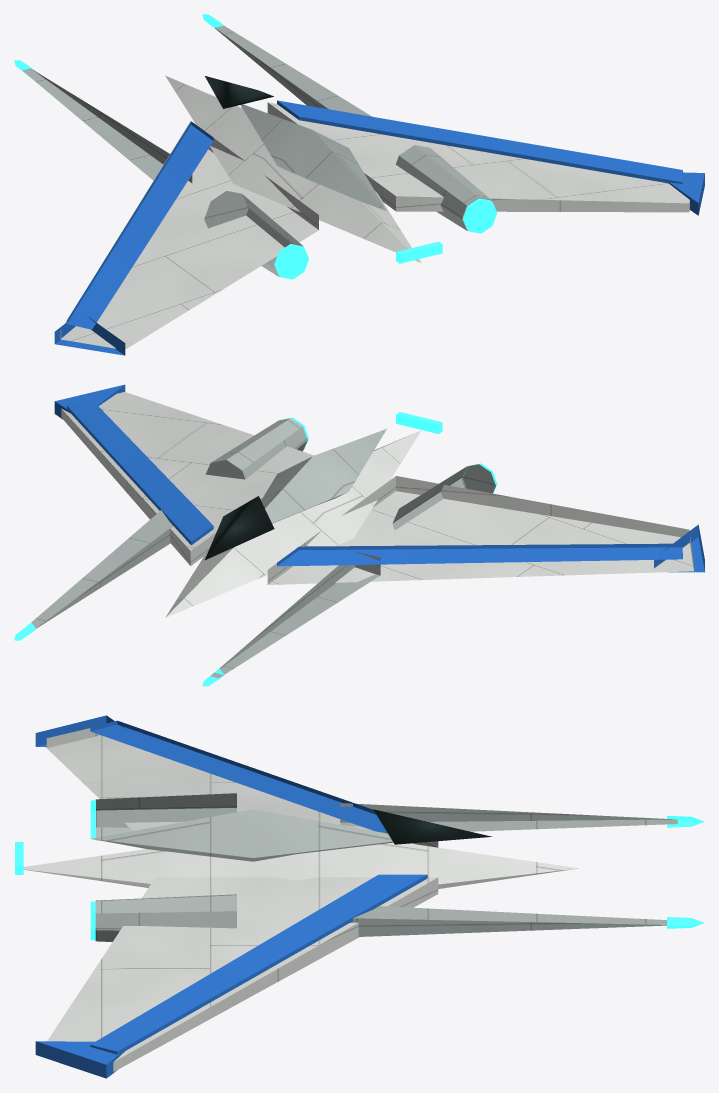
Rendered from energia_lamina.glb.
3 views of the same model, one above another, from view 1: azimuth 30°, elevation 25°; view 2: azimuth 150°, elevation 25°; view 3: azimuth 270°, elevation 25° (orthographic). The views are drawn at different scales.
Visible parts, largest first — view 1: Body_Shell, Body_ShellAlt, Body_TeamColor, Body_Glow, Body_Core; view 2: Body_Shell, Body_ShellAlt, Body_TeamColor, Body_Core, Body_Glow; view 3: Body_Shell, Body_ShellAlt, Body_TeamColor, Body_Core, Body_Glow.
Boxes of the visible parts, x1,y1,x2,y2 form: Body_Shell: (60, 75, 689, 349); Body_ShellAlt: (22, 25, 491, 276); Body_TeamColor: (54, 100, 704, 355); Body_Glow: (14, 14, 497, 279); Body_Core: (205, 76, 273, 108); Body_Shell: (61, 392, 693, 617); Body_ShellAlt: (31, 418, 495, 678); Body_TeamColor: (54, 384, 704, 572); Body_Core: (205, 496, 274, 560); Body_Glow: (14, 412, 497, 686); Body_Shell: (23, 728, 578, 1071); Body_ShellAlt: (90, 793, 677, 941); Body_TeamColor: (35, 715, 427, 1078); Body_Core: (373, 809, 492, 844); Body_Glow: (15, 800, 704, 940).
Size of the model in its own units: 7.6 by 1.02 by 6.35.
Materials: 5 (2 with a texture image).
